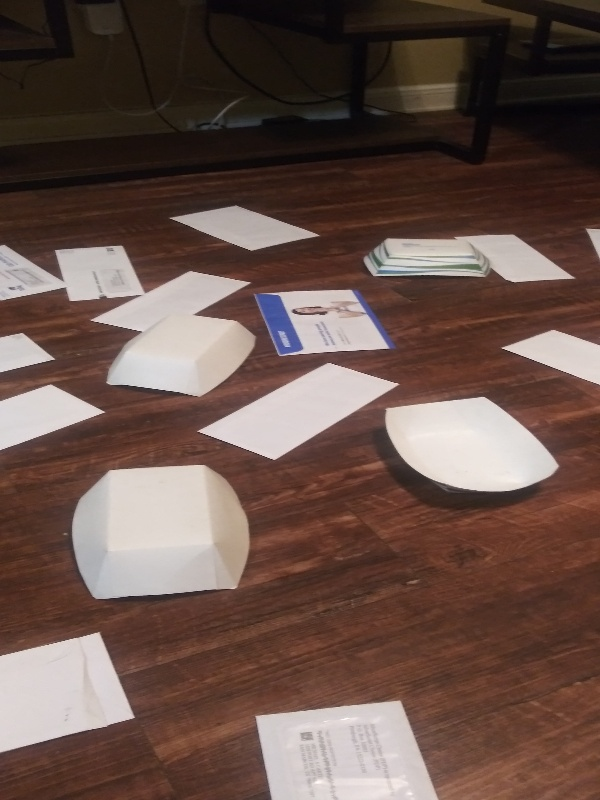plate: (67, 463, 257, 611), (380, 395, 565, 499), (99, 311, 260, 400), (360, 235, 491, 283)
